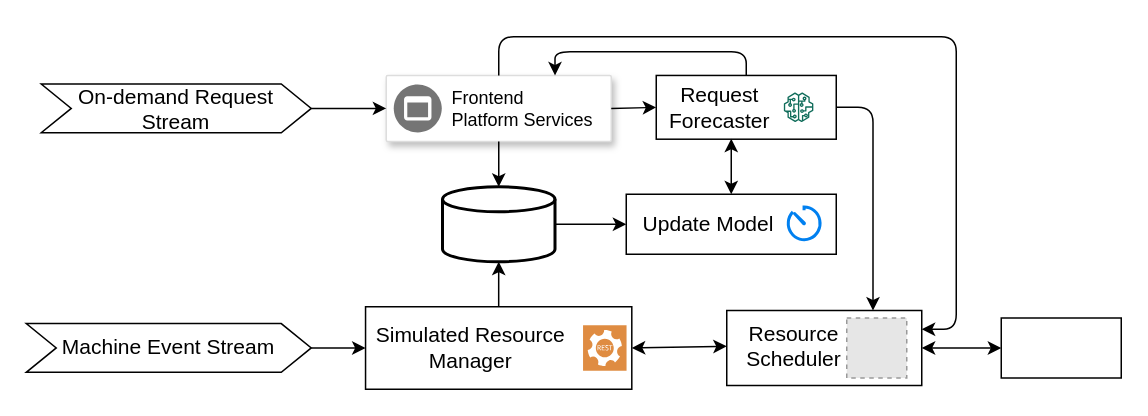
Image size: 1148x416. Some labels were removed from this diagram. Grey dashed boxes stand in for pictures. The shapes that lost their labels are listed below. From the top down, each one's centre as x and y in pixels, then its label:
At (x=498, y=223): "DB".
At (x=1060, y=347): "Condor".
